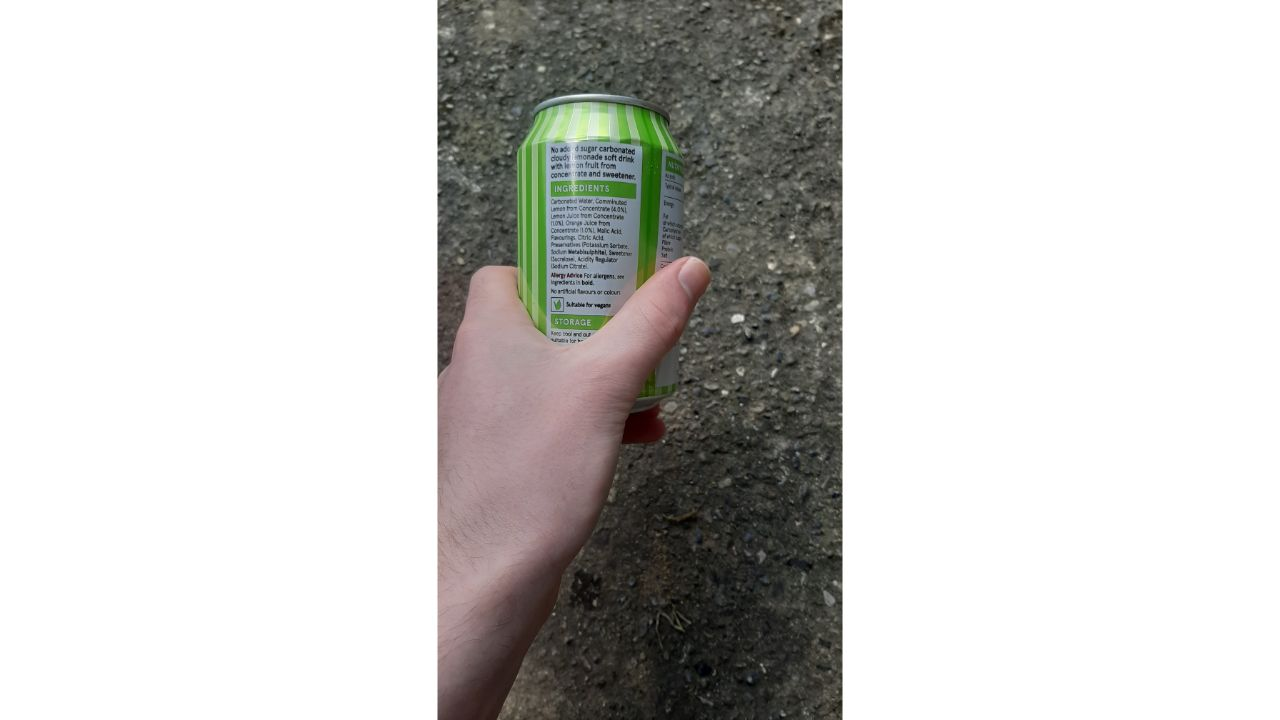Can: (508, 83, 695, 409)
